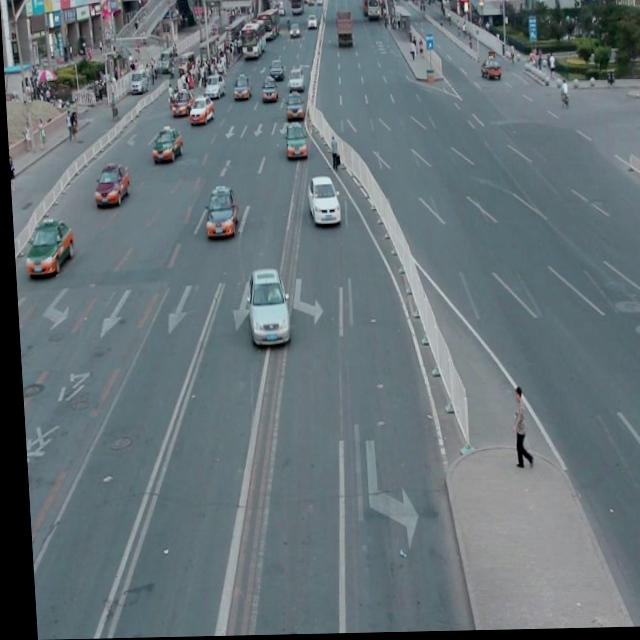car: (241, 268, 287, 349), (21, 216, 73, 279), (200, 186, 237, 241), (303, 174, 339, 228), (89, 161, 129, 208), (148, 126, 183, 164), (282, 123, 306, 161)
